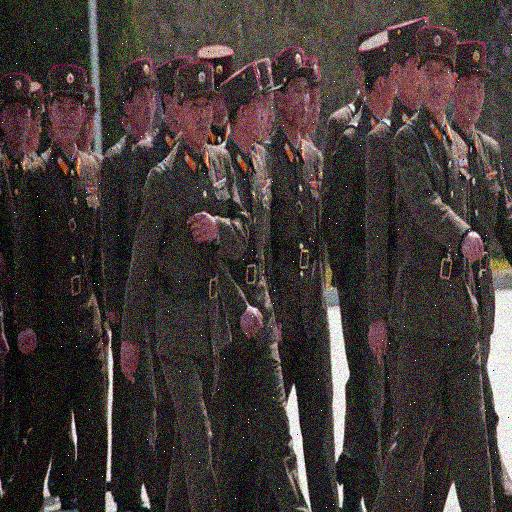north army: (139, 49, 292, 512)
